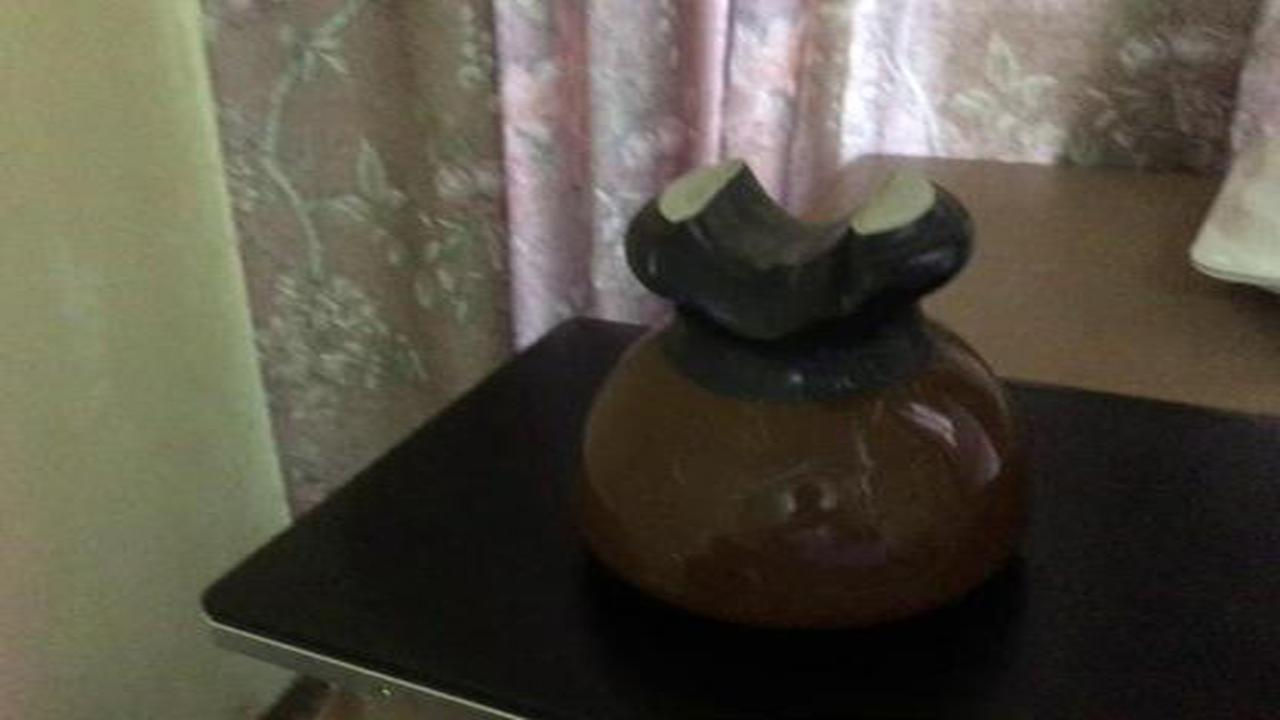insulator_pin: (542, 144, 1062, 650)
